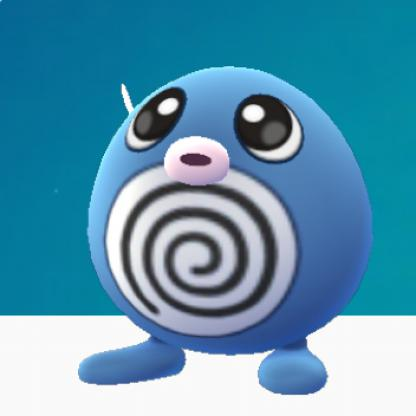Poliwag: (52, 37, 376, 407)
